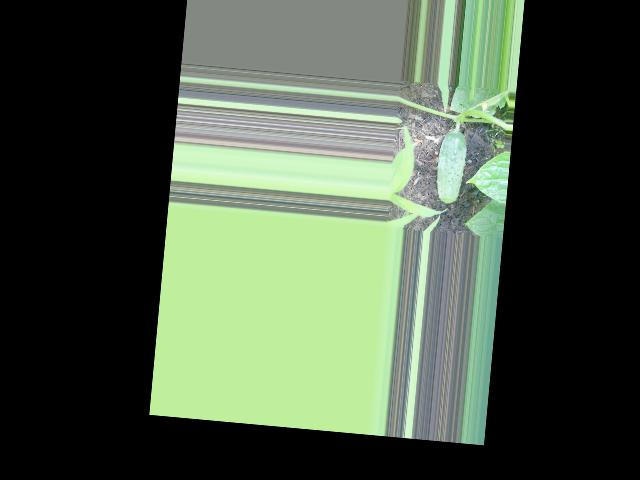cucumber: (433, 129, 467, 205)
